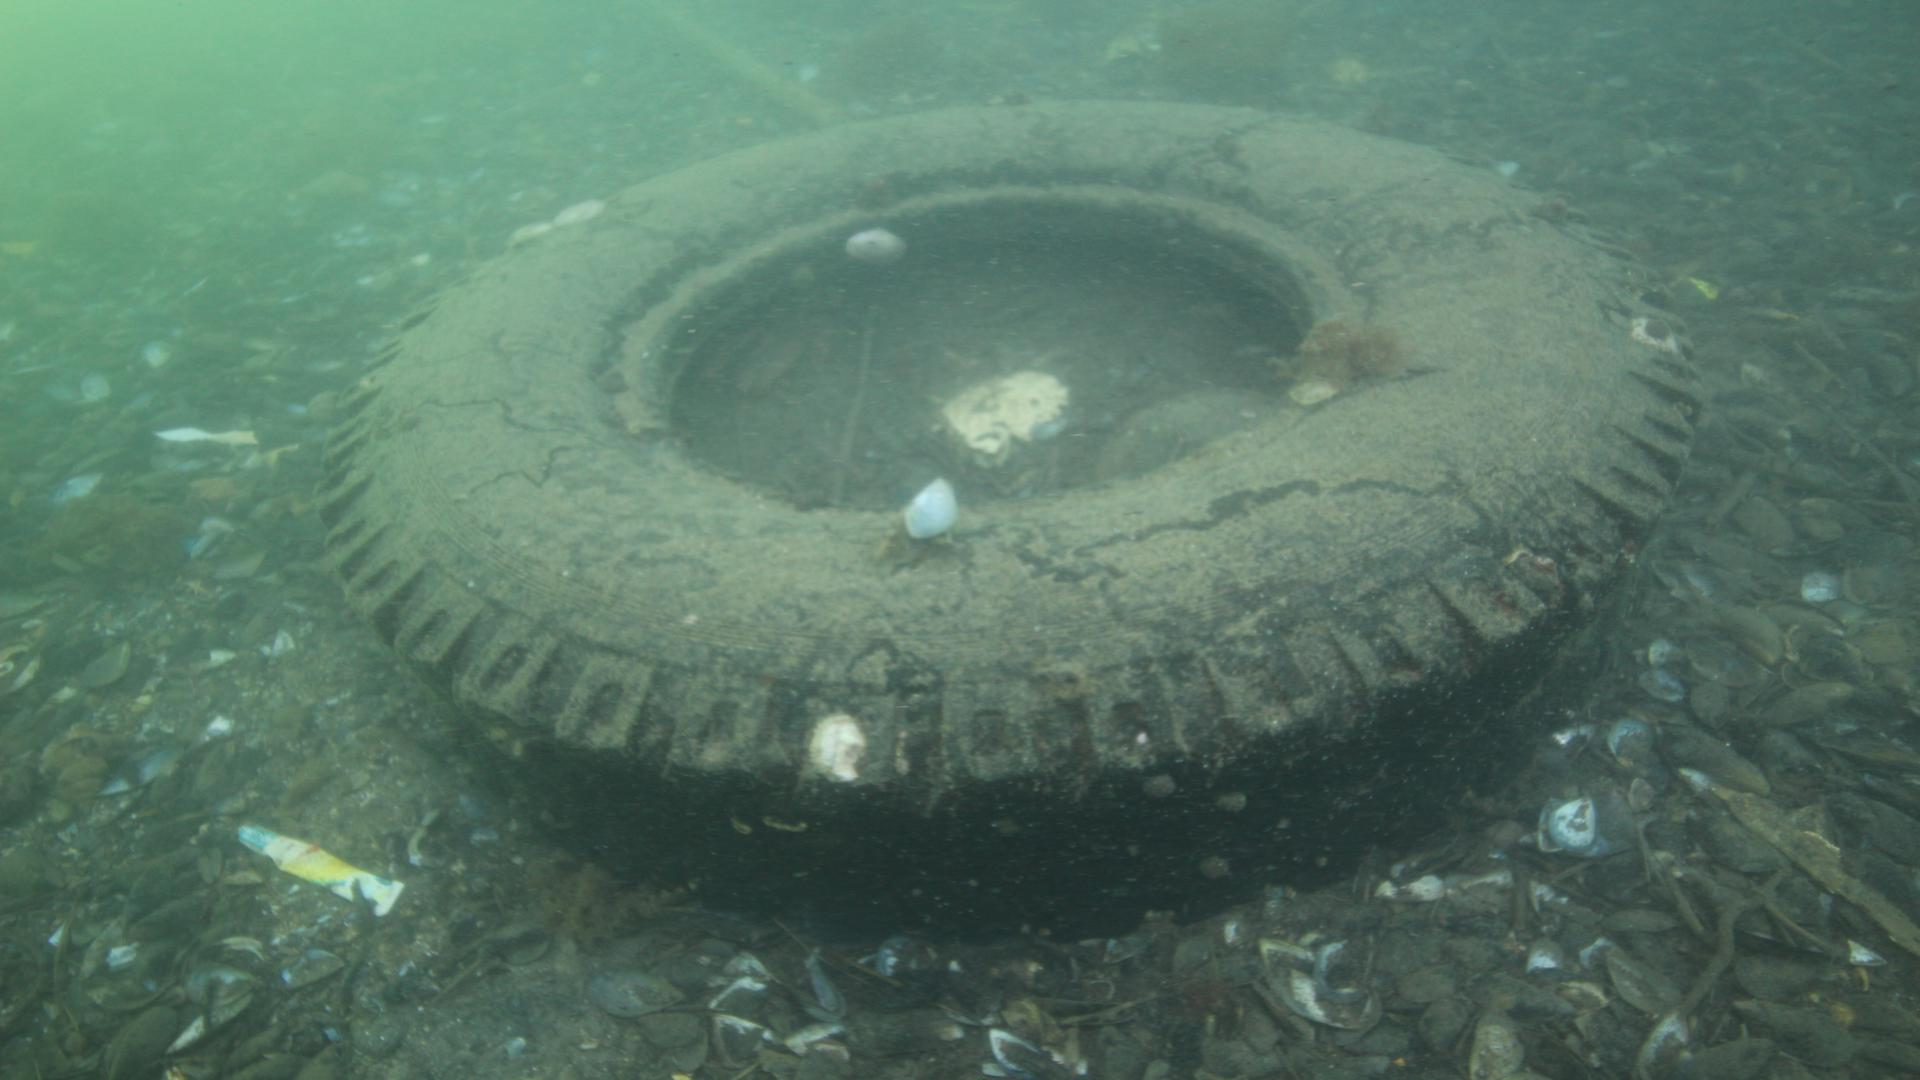tire: (311, 94, 1700, 924)
